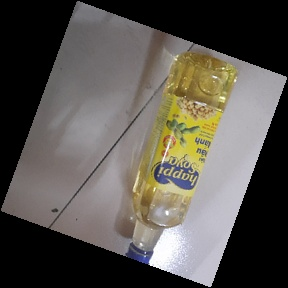Happy Soya: (125, 50, 239, 268)
